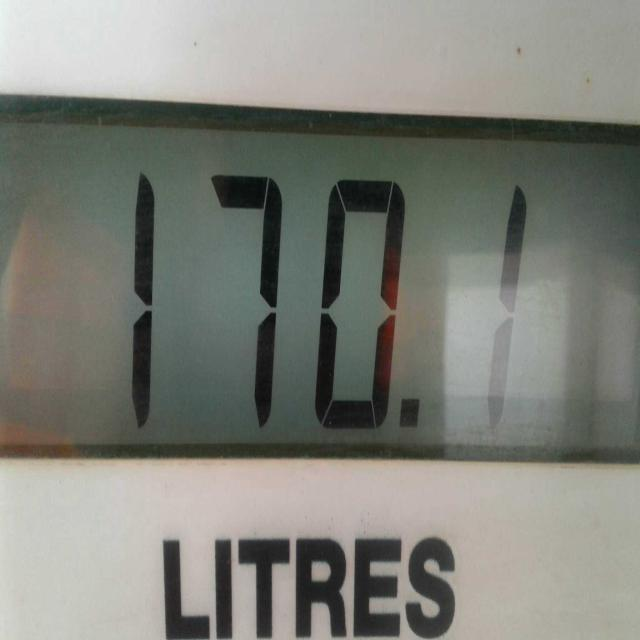.: (391, 382, 436, 451)
0: (297, 146, 407, 448)
1: (457, 158, 542, 442), (120, 164, 200, 447)
7: (207, 159, 301, 443)
